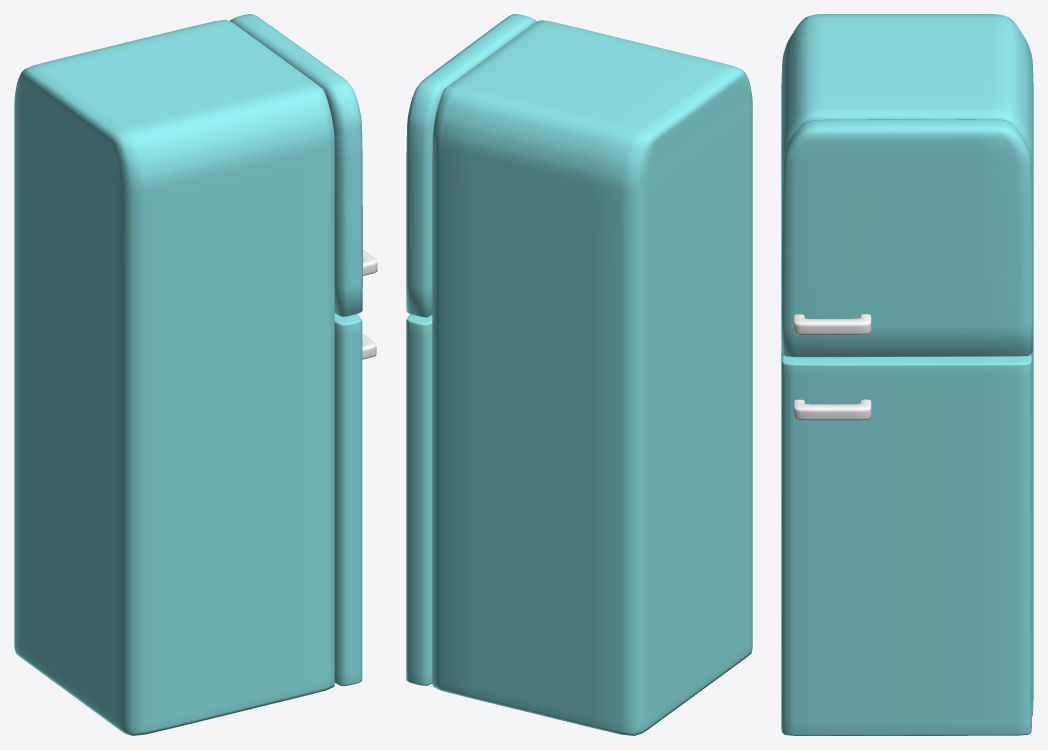
File: refrigerator_fixed.fbx
3 views of the same model, side by side, from view 1: azimuth 30°, elevation 25°; view 2: azimuth 150°, elevation 25°; view 3: azimuth 270°, elevation 25° (orthographic). The views are drawn at different scales.
Visible parts, largest first — view 1: Fridge_back, Fridge_door2, Fridge_door1; view 2: Fridge_back, Fridge_door2, Fridge_door1; view 3: Fridge_door2, Fridge_door1, Fridge_back, Fridge_arm2, Fridge_arm1.
Boxes of the visible parts, x1=… form: Fridge_back: x1=14, y1=19, x2=334, y2=735; Fridge_door2: x1=334, y1=313, x2=362, y2=685; Fridge_door1: x1=230, y1=14, x2=362, y2=316; Fridge_back: x1=432, y1=20, x2=752, y2=735; Fridge_door2: x1=406, y1=314, x2=432, y2=685; Fridge_door1: x1=406, y1=14, x2=536, y2=317; Fridge_door2: x1=781, y1=354, x2=1031, y2=735; Fridge_door1: x1=781, y1=119, x2=1032, y2=357; Fridge_back: x1=781, y1=14, x2=1033, y2=716; Fridge_arm2: x1=793, y1=399, x2=871, y2=420; Fridge_arm1: x1=793, y1=314, x2=871, y2=334.
Size of the model in its own units: 84.14 by 186 by 70.05.
